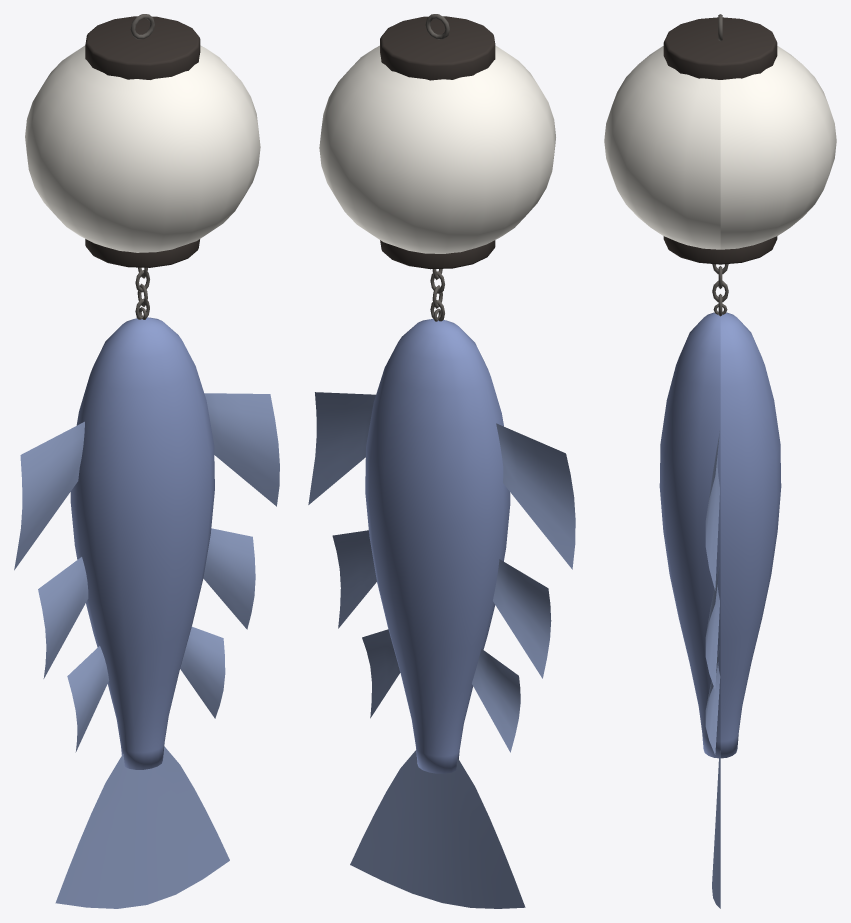
File: fishlantern.glb
3 views of the same model, side by side, from view 1: azimuth 30°, elevation 25°; view 2: azimuth 150°, elevation 25°; view 3: azimuth 270°, elevation 25° (orthographic). The views are drawn at different scales.
Parts seen in each view (by area): view 1: FishLanternBody, FishLanternFins, FishLanternTopPaper, FishLanternCaps, FishLanternChain; view 2: FishLanternBody, FishLanternFins, FishLanternTopPaper, FishLanternCaps, FishLanternChain; view 3: FishLanternBody, FishLanternTopPaper, FishLanternCaps, FishLanternFins, FishLanternChain.
Part boxes in pixels (x1,y1,x2,y2): FishLanternBody: (70, 317, 214, 769); FishLanternFins: (14, 393, 279, 908); FishLanternTopPaper: (25, 45, 260, 252); FishLanternCaps: (85, 16, 200, 267); FishLanternChain: (130, 14, 154, 319); FishLanternBody: (365, 319, 510, 773); FishLanternFins: (308, 392, 575, 908); FishLanternTopPaper: (319, 45, 555, 253); FishLanternCaps: (380, 16, 495, 269); FishLanternChain: (425, 14, 449, 321); FishLanternBody: (659, 312, 781, 758); FishLanternTopPaper: (604, 46, 836, 249); FishLanternCaps: (663, 17, 777, 264); FishLanternFins: (705, 431, 720, 908); FishLanternChain: (712, 14, 728, 316).
Size of the model in its own units: 0.3459 by 1.12 by 0.27.
